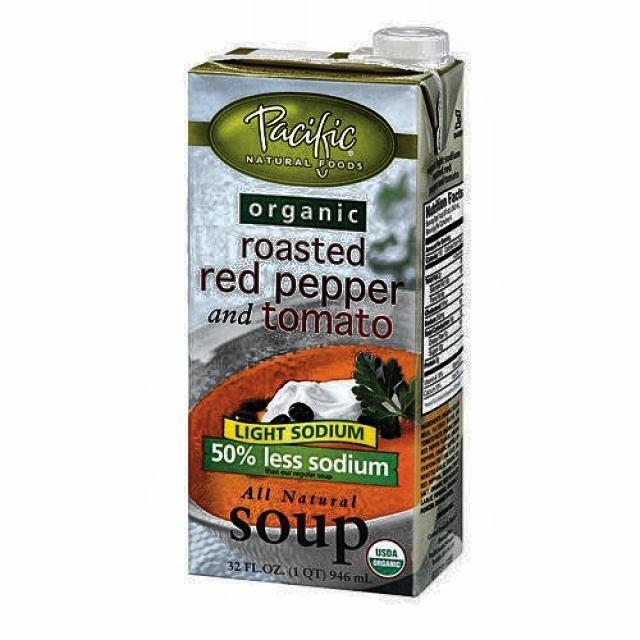cardboard: (186, 42, 467, 596)
